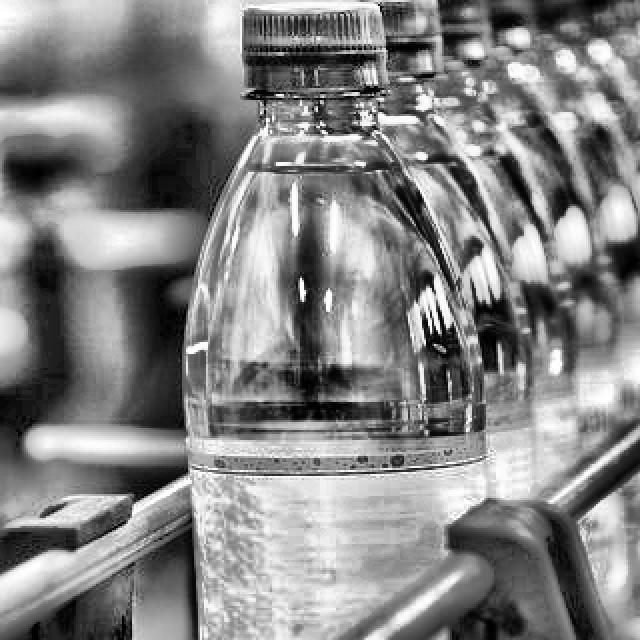bottle: (182, 0, 486, 640)
